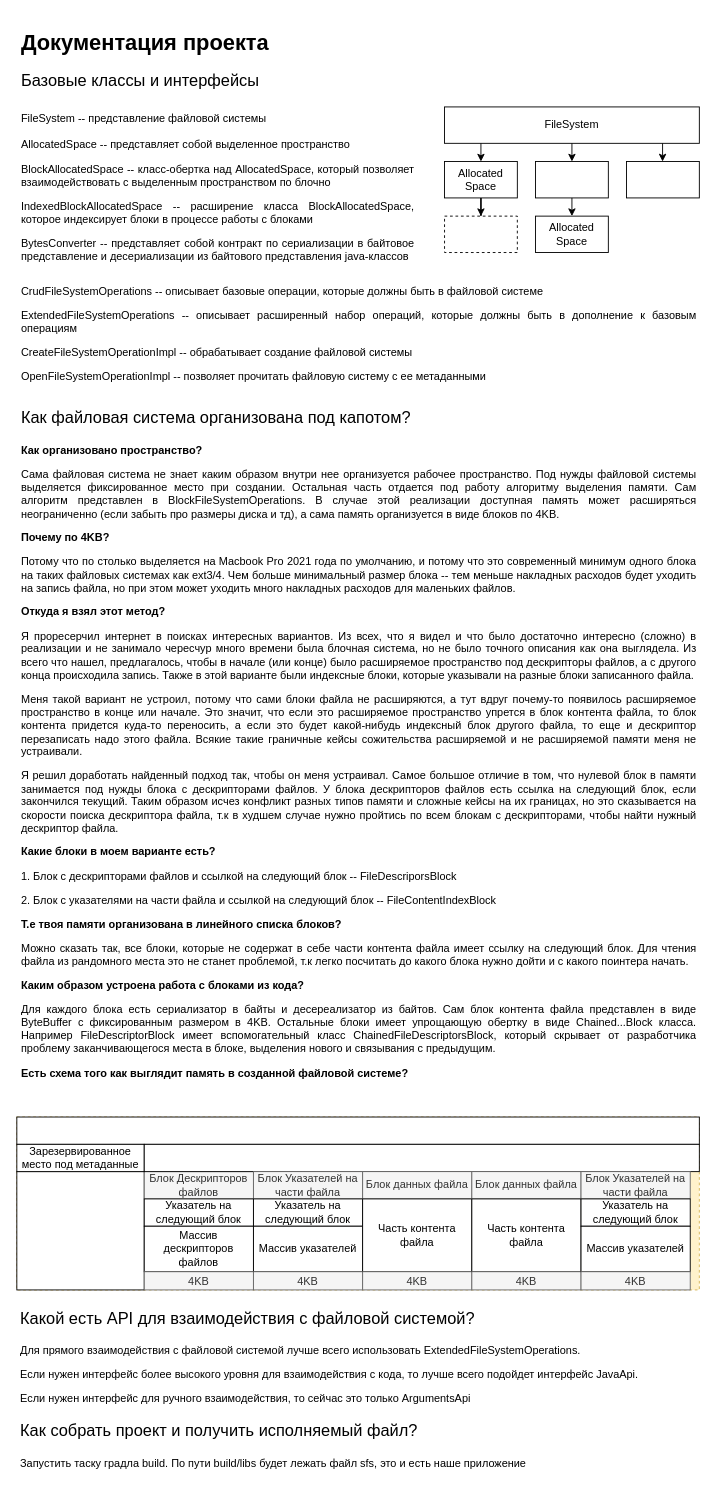
The diagram is 715 pixels wide and 1496 high, and some of its shapes have lost their labels. Each missing label, with the box of its shape:
Available Blocks Index: (444, 215, 517, 253)
File System Metadata: (626, 161, 699, 198)
File System Operations: (535, 161, 608, 198)
Выделенное место под файловую систему: (16, 1116, 699, 1144)
Метаданные файловой системы: (16, 1171, 144, 1290)
Рабочее пространство: (143, 1143, 699, 1172)
